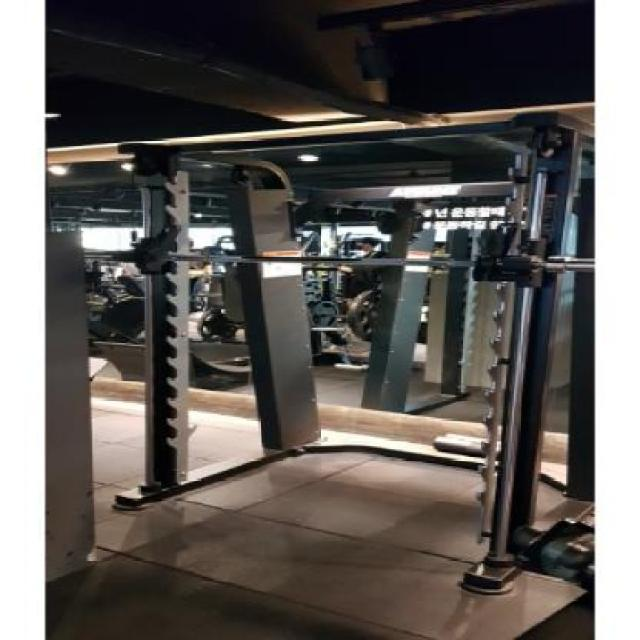smith machine: (101, 112, 594, 598)
